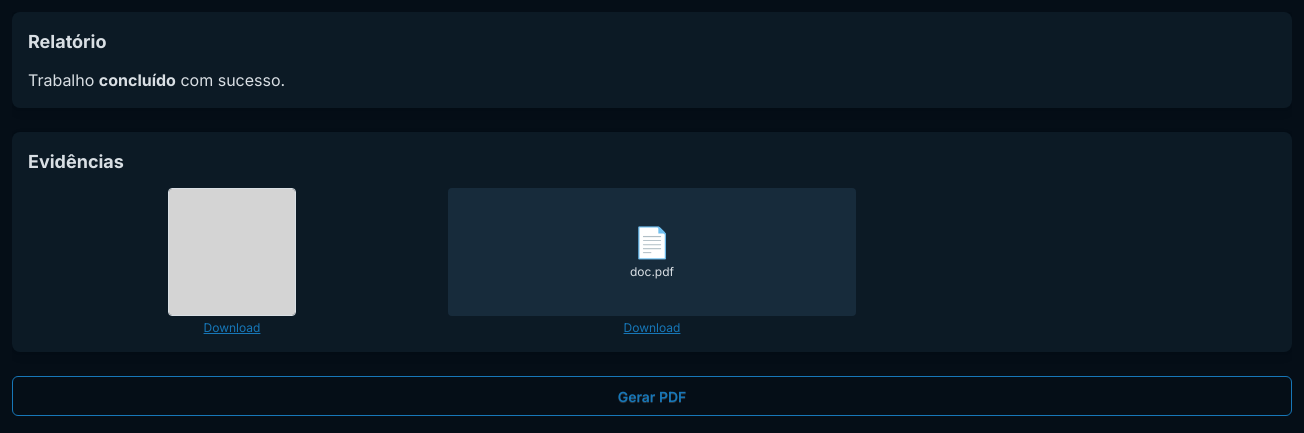
it: JobReportView › mostra aviso quando há itens não marcados
What coordinates should you click on to do the following:
click the button "Gerar PDF"
I would click on:
 (652, 396)
Its box is [12,376,1292,416].
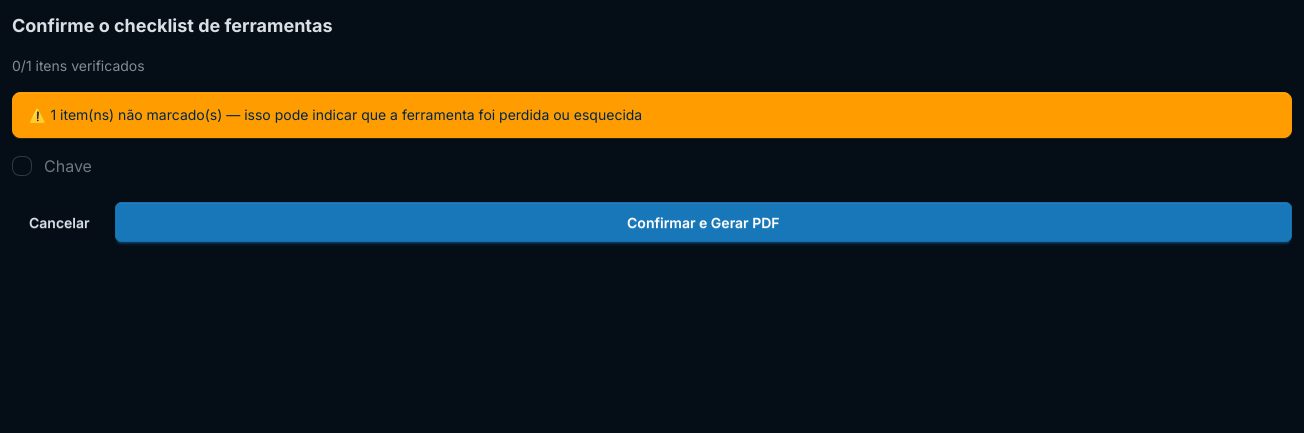
Now the text with test id "checklist-warning" is shown, box [12,92,1292,138]
